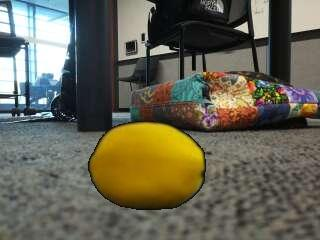lemon: (91, 123, 202, 207)
